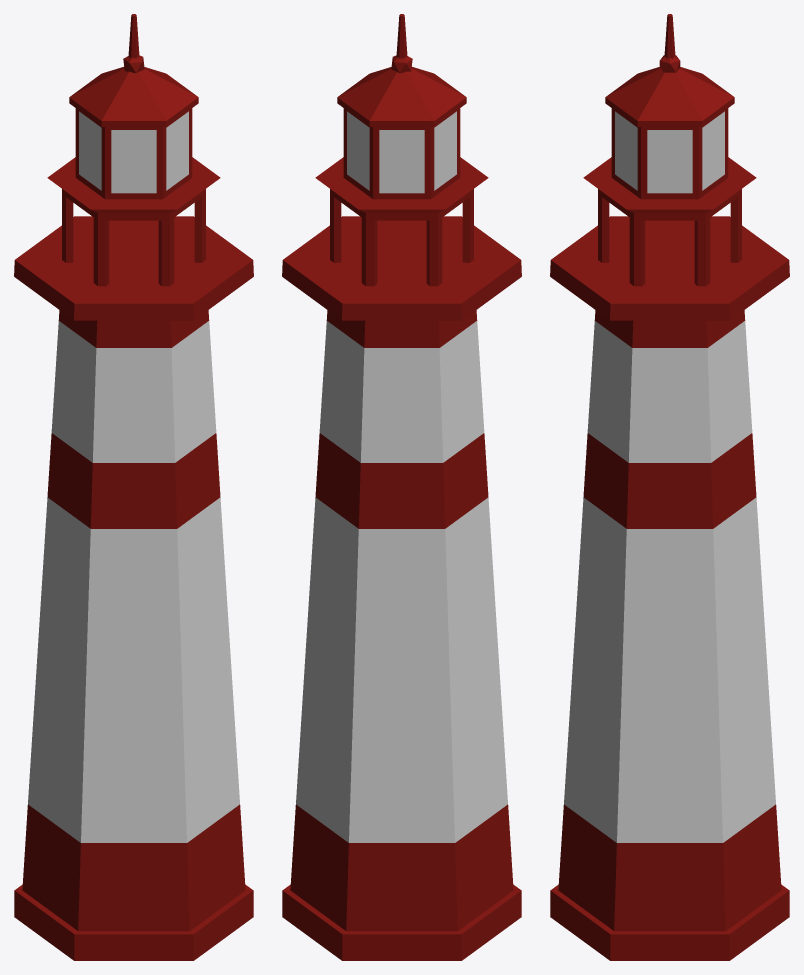
Rendered from Lighthouse.fbx.
3 views of the same model, side by side, from view 1: azimuth 30°, elevation 25°; view 2: azimuth 150°, elevation 25°; view 3: azimuth 270°, elevation 25° (orthographic).
Parts seen in each view (by area): view 1: Cylinder; view 2: Cylinder; view 3: Cylinder.
Boxes of the visible parts, x1,y1,x2,y2 form: Cylinder: [14, 14, 253, 960]; Cylinder: [282, 14, 521, 960]; Cylinder: [550, 14, 789, 960].
Size of the model in its own units: 174 by 833 by 201.
